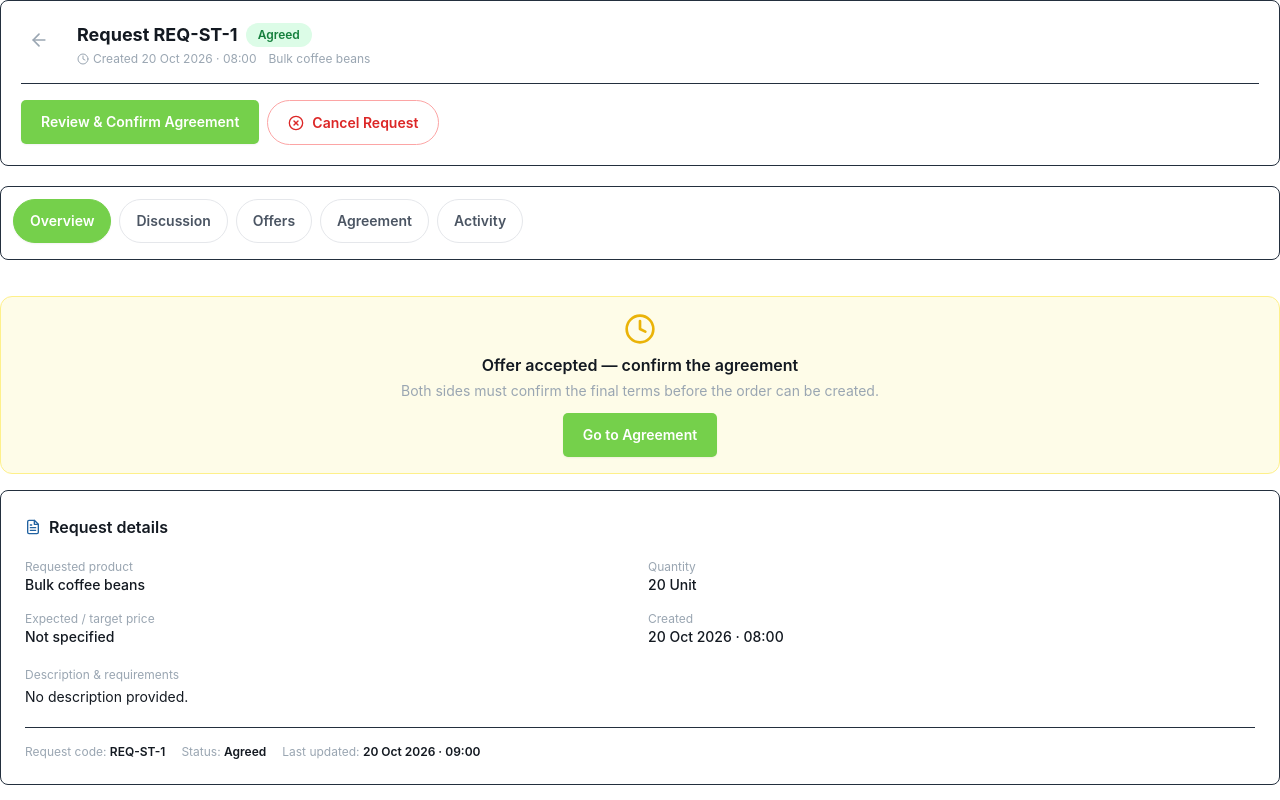
Test: buyer request agreement flow › lets the buyer confirm after the seller has confirmed an agreed offer
Click the tab "Agreement" at point(375, 221), box top-left (320, 199), bottom-right (429, 243)
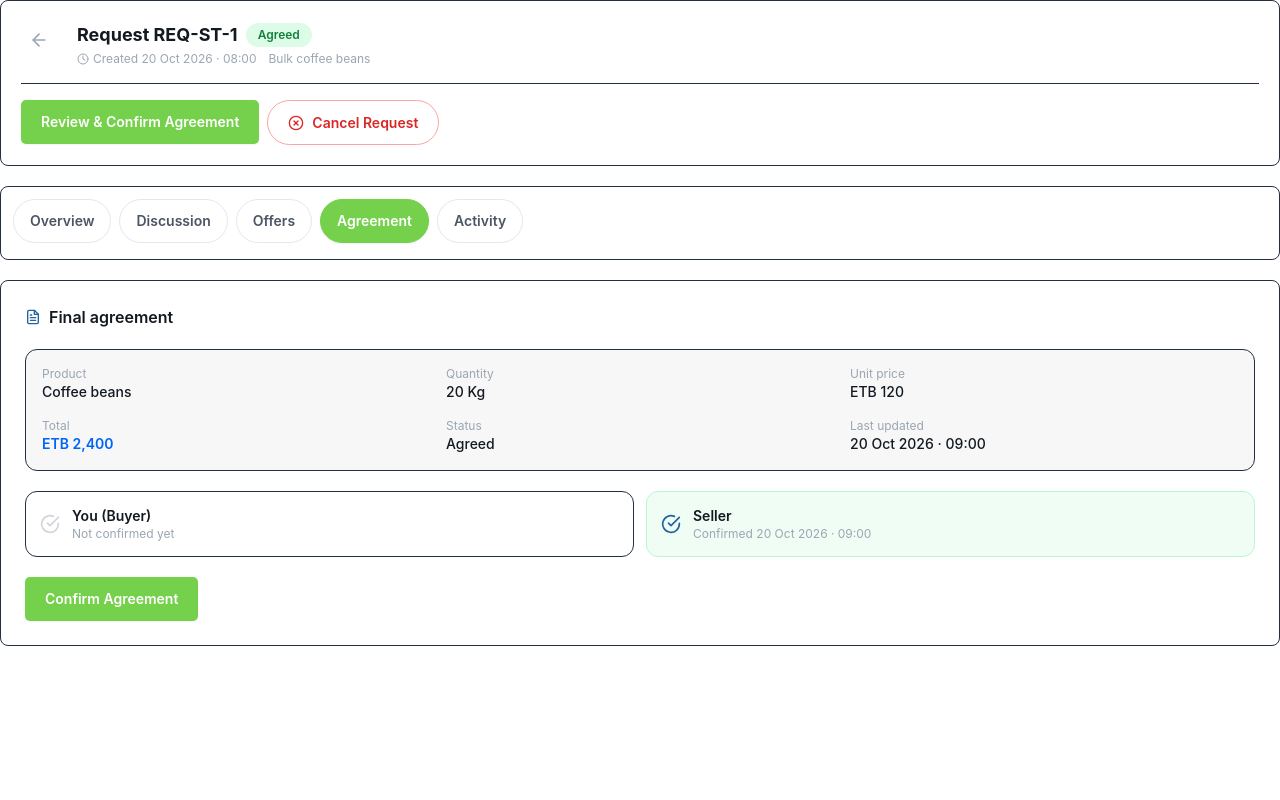
Click the button "Confirm Agreement" at point(112, 599), box top-left (25, 577), bottom-right (198, 621)
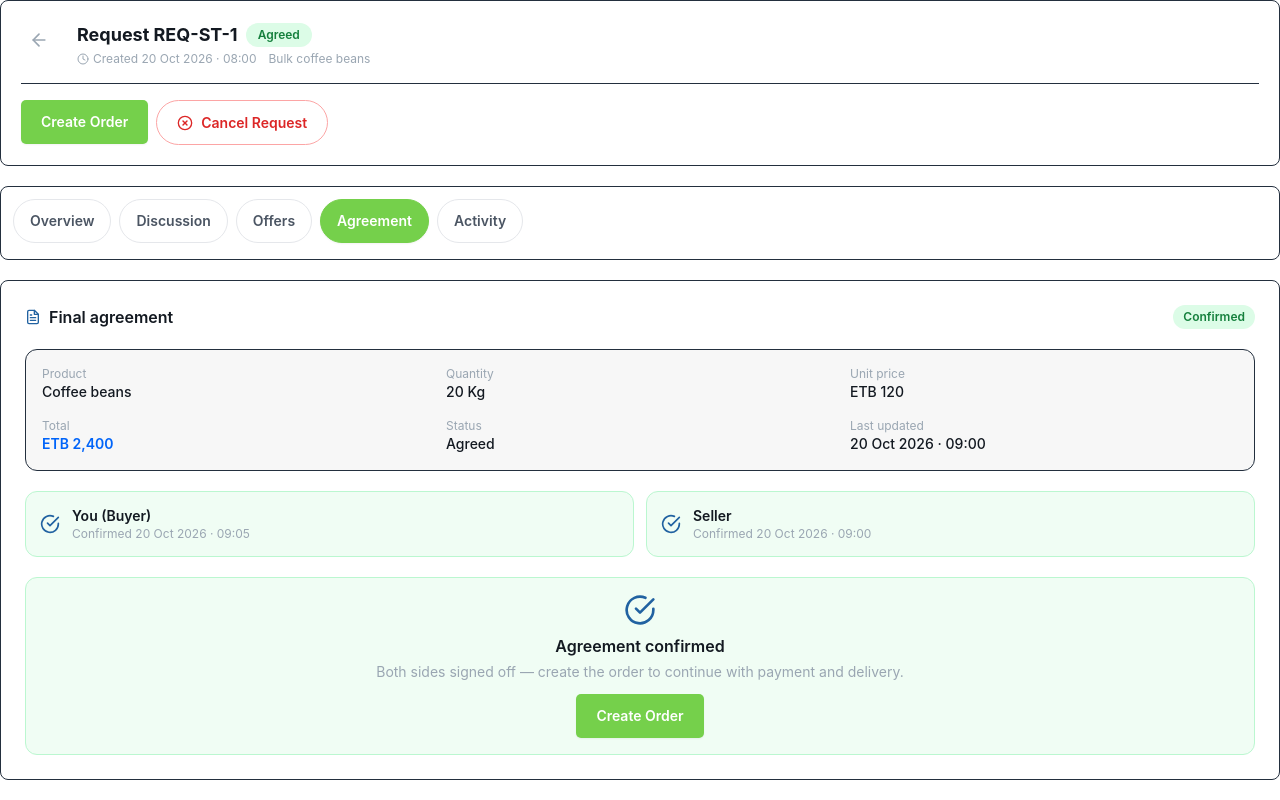
Now the text "Agreement confirmed" is shown, box top-left (555, 636), bottom-right (725, 656)
